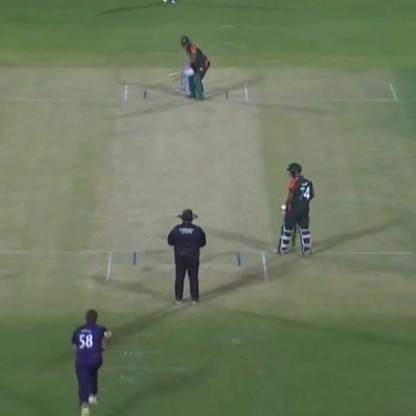bat: (168, 66, 192, 92)
pitch: (98, 76, 270, 296)
